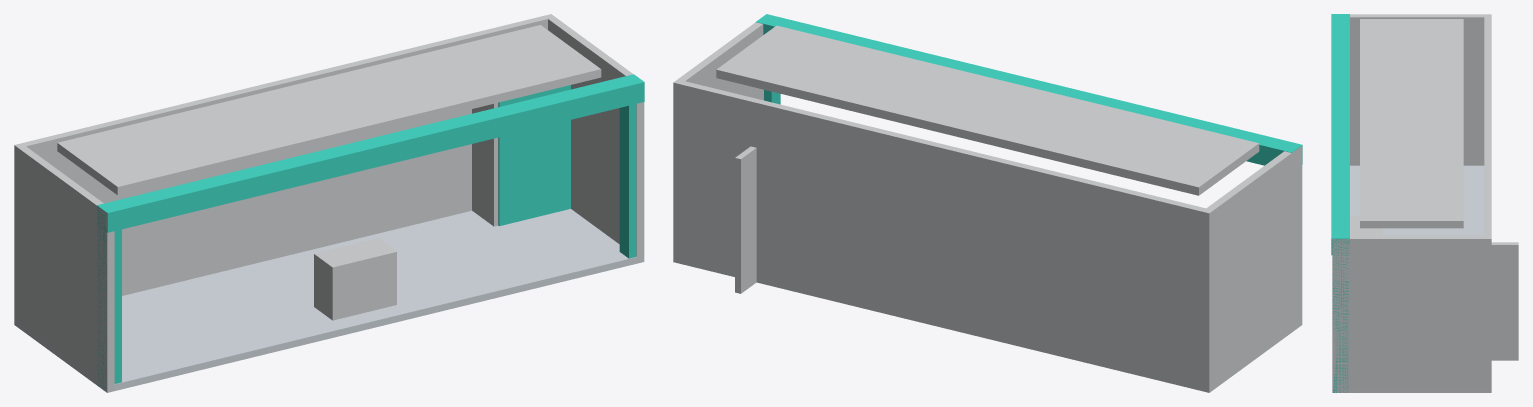
3 views of the same model, side by side, from view 1: azimuth 30°, elevation 25°; view 2: azimuth 150°, elevation 25°; view 3: azimuth 270°, elevation 25° (orthographic). The views are drawn at different scales.
Parts seen in each view (by area): view 1: Exhibition Booth Concept; view 2: Exhibition Booth Concept; view 3: Exhibition Booth Concept.
Boxes of the visible parts, x1,y1,x2,y2 form: Exhibition Booth Concept: (14, 14, 644, 392); Exhibition Booth Concept: (673, 14, 1302, 392); Exhibition Booth Concept: (1331, 14, 1518, 392).
Size of the model in its own units: 10 by 3.34 by 3.52.
